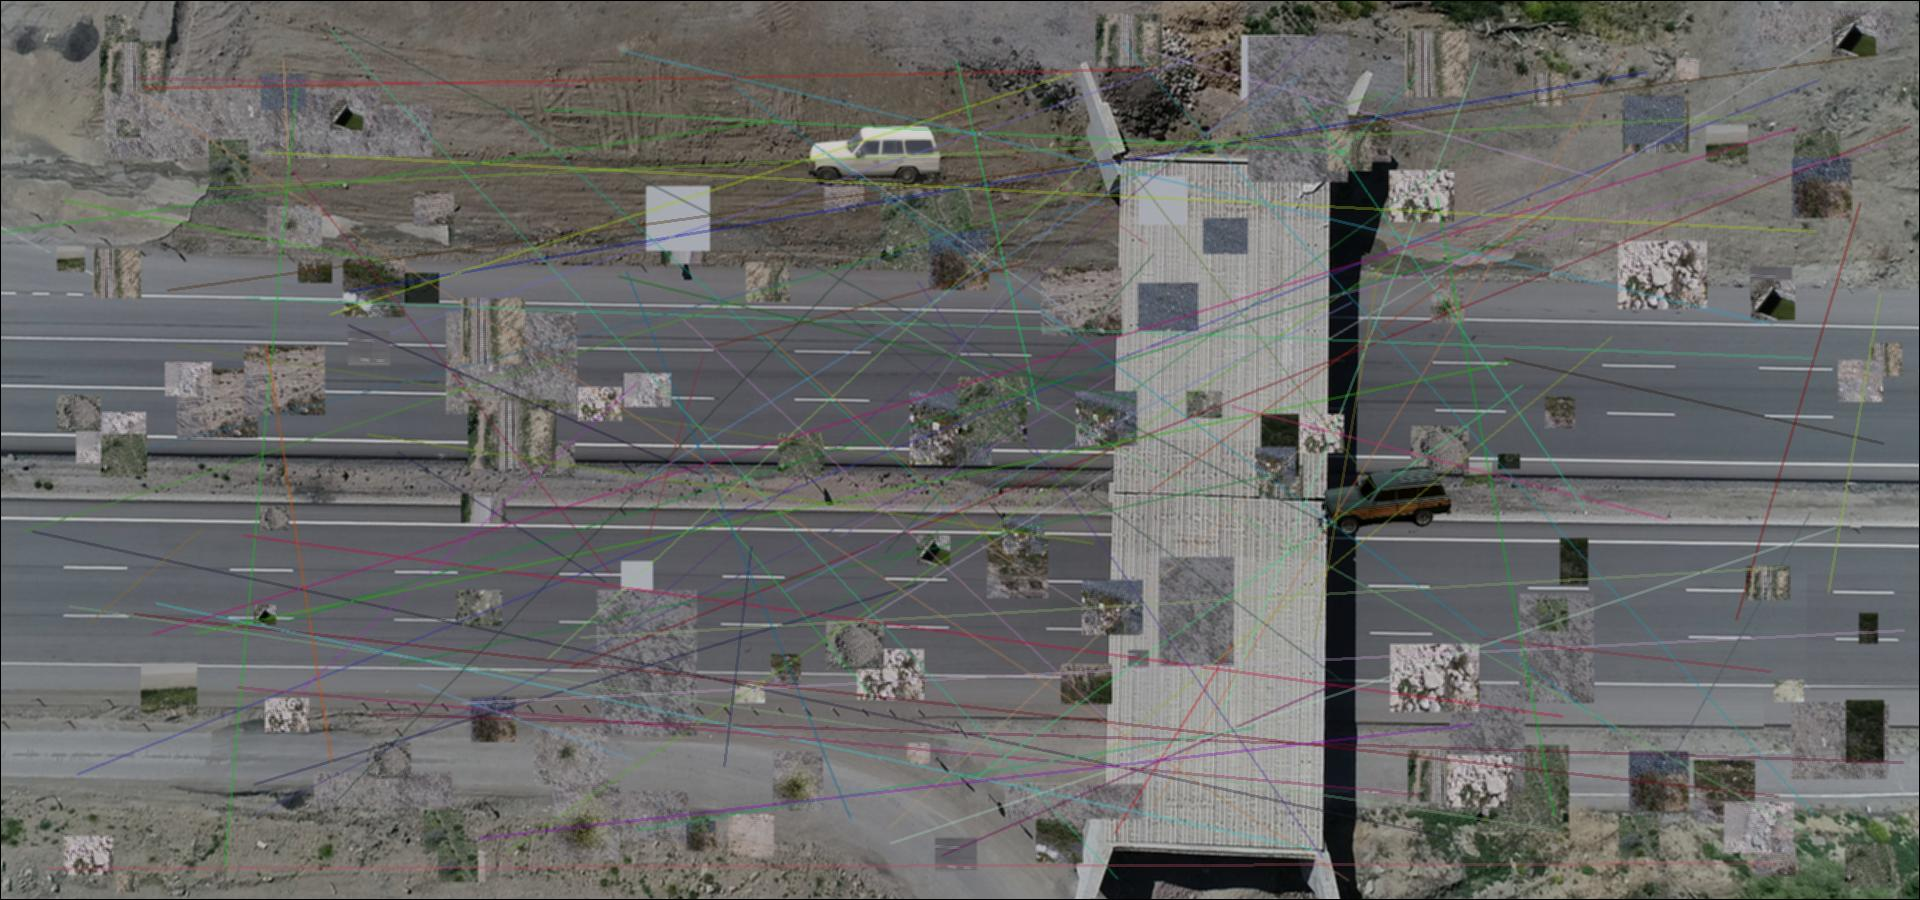arac: (1315, 464, 1451, 534), (804, 122, 940, 186)
